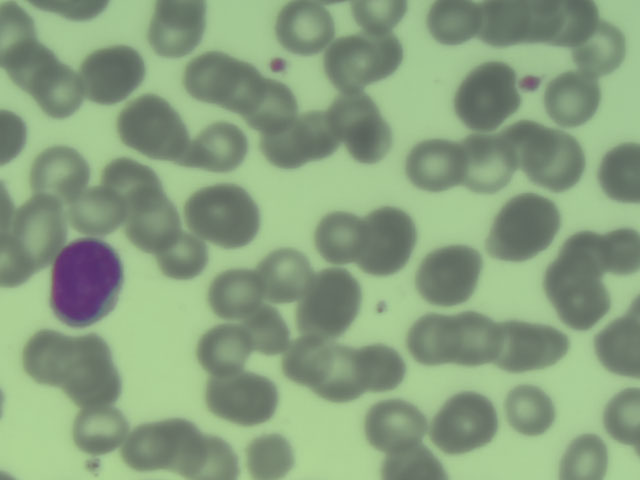Platelets: (518, 72, 547, 97), (265, 54, 289, 77)
RBC: (491, 196, 559, 257), (418, 244, 478, 302), (194, 185, 250, 247), (595, 315, 640, 375), (316, 210, 365, 261), (364, 213, 413, 264), (246, 431, 295, 480), (189, 431, 238, 480), (561, 431, 610, 480), (600, 146, 640, 205), (200, 321, 249, 369), (227, 376, 276, 424), (534, 138, 583, 186), (503, 124, 552, 172), (462, 142, 511, 190), (406, 143, 455, 191), (462, 69, 511, 117), (550, 78, 599, 126), (571, 24, 620, 72), (329, 41, 378, 89), (329, 89, 378, 137), (294, 110, 343, 158), (258, 118, 307, 166), (246, 79, 295, 127), (211, 61, 260, 109), (184, 50, 233, 98), (197, 121, 246, 169), (152, 119, 201, 167), (120, 98, 169, 146), (159, 424, 208, 472), (125, 421, 174, 469), (74, 404, 123, 452), (70, 356, 119, 404), (26, 333, 75, 381), (158, 232, 207, 280), (129, 198, 178, 246), (105, 156, 154, 204), (65, 187, 114, 235), (13, 207, 62, 255), (36, 146, 85, 194), (150, 6, 199, 54), (88, 50, 137, 98), (35, 67, 84, 115), (6, 46, 55, 94), (543, 255, 592, 303), (556, 230, 605, 278), (591, 228, 640, 276), (527, 323, 576, 371), (491, 321, 540, 369), (446, 315, 495, 363), (408, 316, 457, 364), (442, 398, 491, 446), (371, 400, 420, 448), (355, 343, 404, 391), (319, 353, 368, 401), (308, 279, 357, 327), (260, 250, 309, 298), (281, 336, 330, 384), (235, 309, 284, 357), (209, 270, 258, 318), (509, 387, 558, 435), (558, 281, 607, 329), (524, 1, 573, 48), (478, 1, 527, 48), (430, 1, 479, 48), (281, 1, 330, 48), (608, 384, 640, 448), (1, 7, 38, 62), (1, 241, 38, 293), (353, 1, 411, 34), (385, 447, 442, 480), (1, 105, 32, 164)
WBC: (51, 237, 124, 330)
